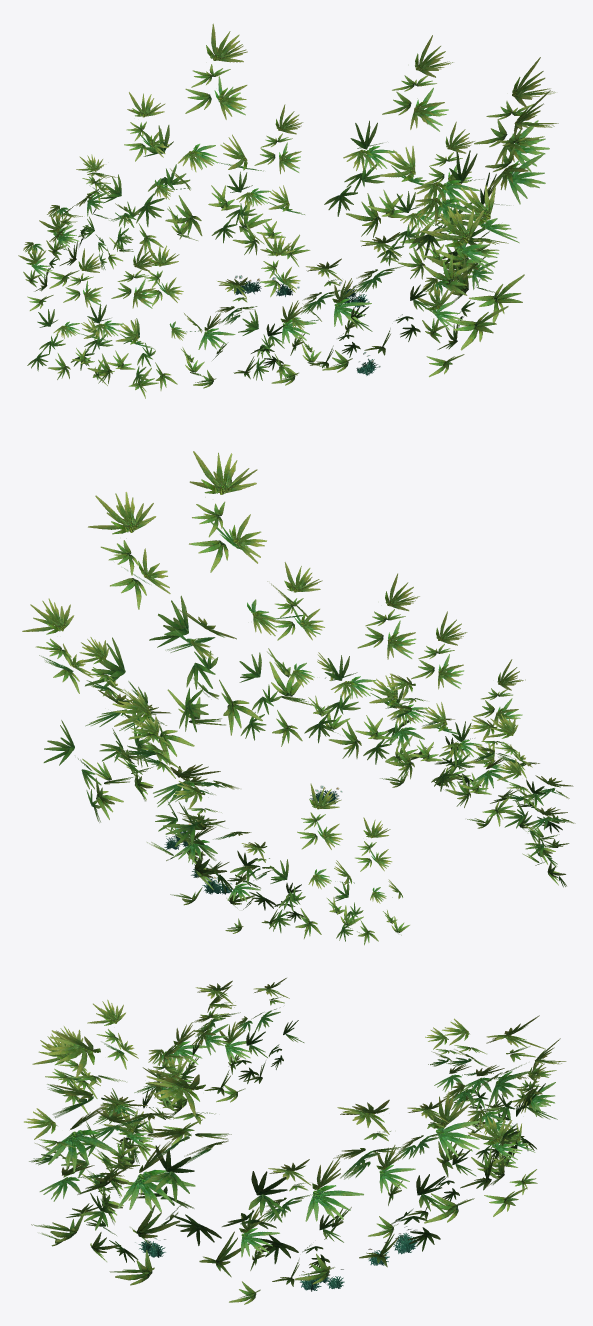
File: Area_03_6.fbx
The picture shows the model from 3 angles, top to bottom: view 1: azimuth 30°, elevation 25°; view 2: azimuth 150°, elevation 25°; view 3: azimuth 270°, elevation 25°; orthographic projection. The views are drawn at different scales.
Parts seen in each view (by area): view 1: Area_03_6; view 2: Area_03_6; view 3: Area_03_6.
Part boxes in pixels (box(x1,y1,x2,y2)): Area_03_6: box(18, 23, 558, 398); Area_03_6: box(22, 451, 575, 945); Area_03_6: box(24, 978, 566, 1304).
Size of the model in its own units: 7003 by 3730 by 6072.
